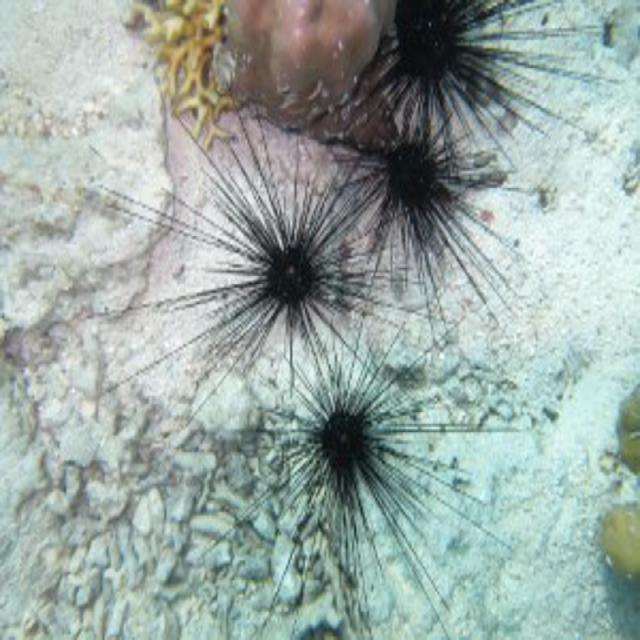Urchin: (72, 104, 405, 376), (203, 330, 509, 602), (298, 92, 523, 325), (376, 1, 618, 164)
